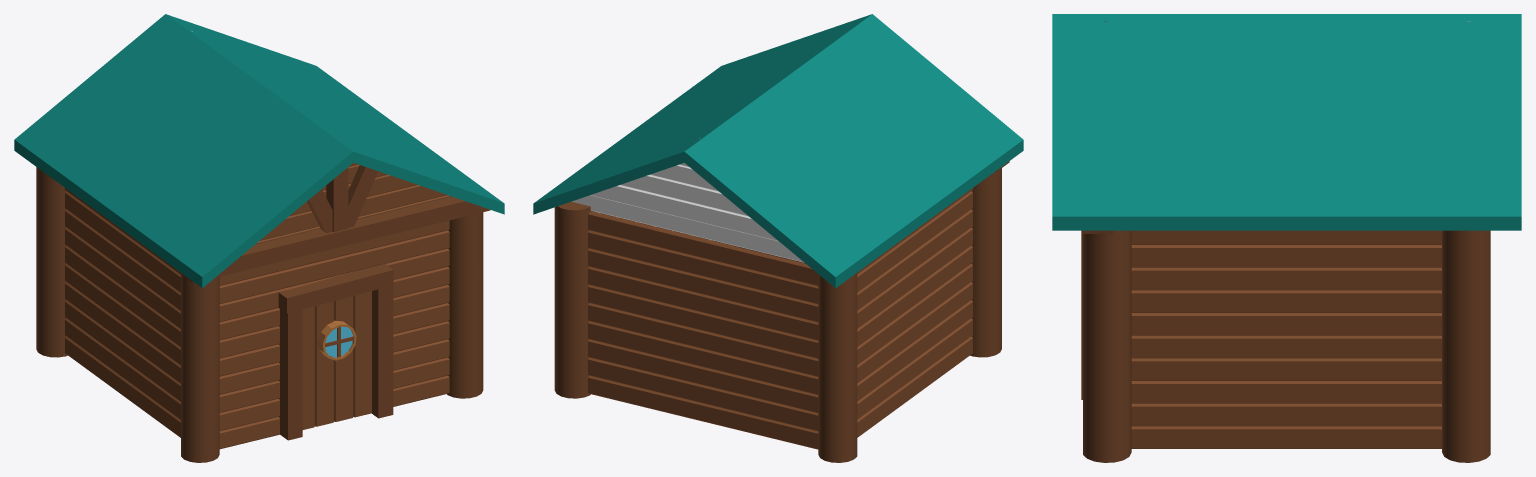
File: HUTJ.fbx
The picture shows the model from 3 angles, left to right: view 1: azimuth 30°, elevation 25°; view 2: azimuth 150°, elevation 25°; view 3: azimuth 270°, elevation 25°; orthographic projection. The views are drawn at different scales.
Visible parts, largest first — view 1: Cylinder; view 2: Cylinder; view 3: Cylinder.
Part boxes in pixels (x1,y1,x2,y2): Cylinder: (14,14,504,462); Cylinder: (533,14,1023,462); Cylinder: (1052,14,1521,462).
Bounding box in the file's own units: 17.76 × 16.12 × 19.14.
